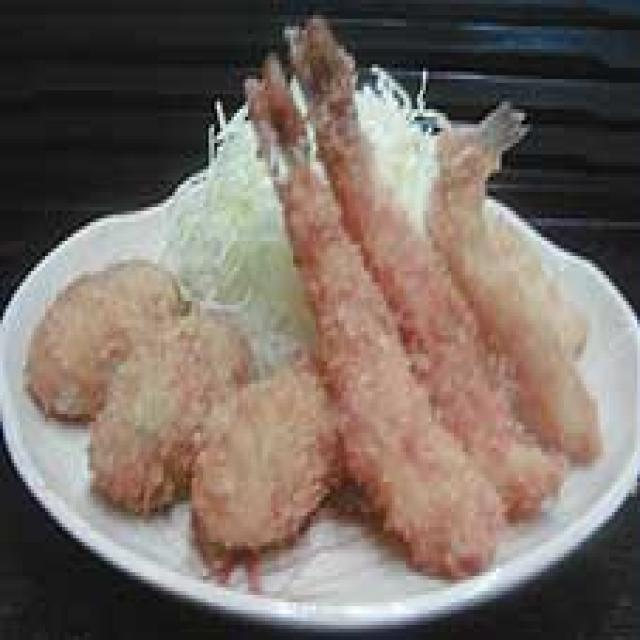炸货点心: (237, 0, 603, 599)
熟制海鲜: (237, 0, 603, 599)
